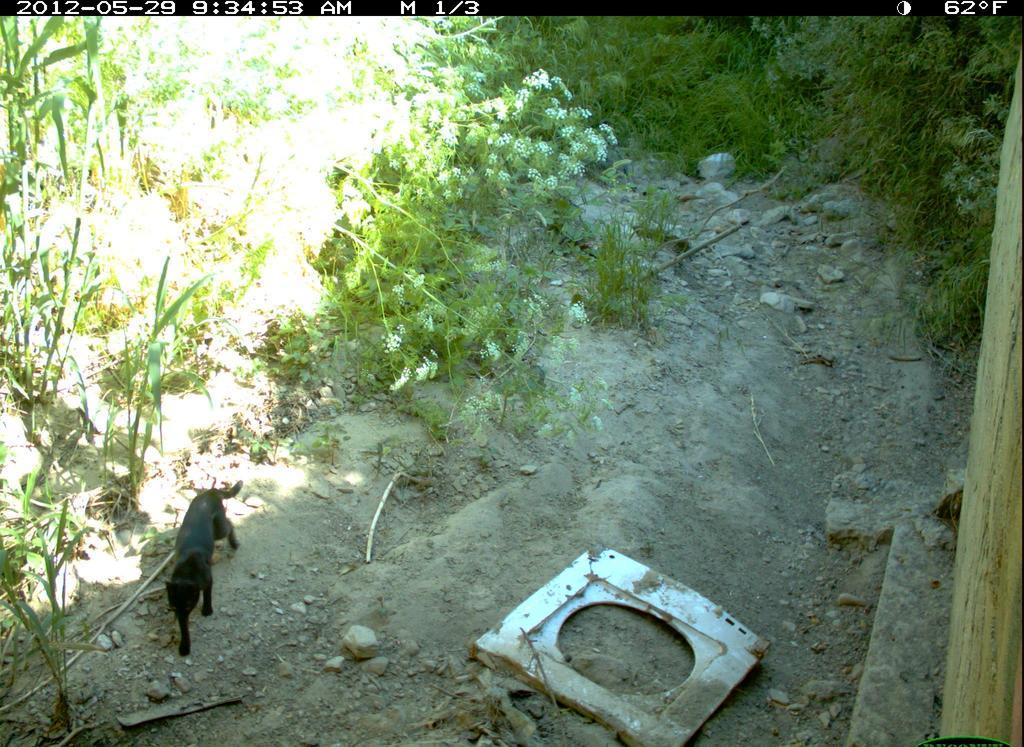cat: (164, 475, 249, 662)
